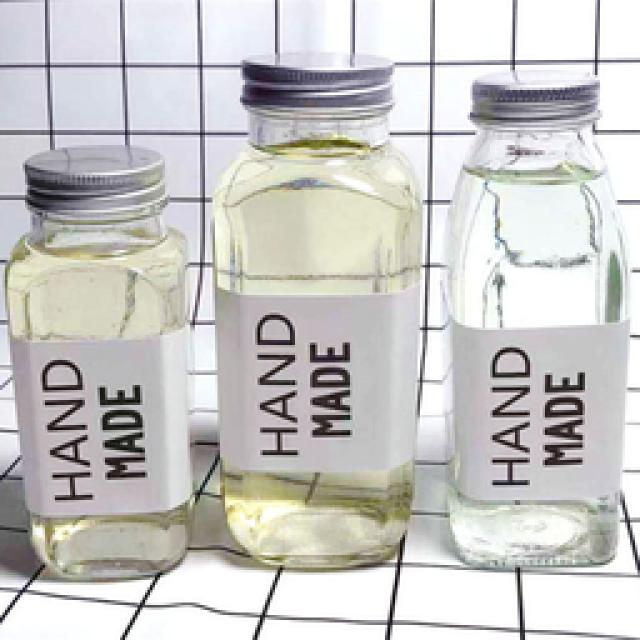glass_beverage_bottles: (218, 55, 418, 563), (453, 75, 620, 572), (12, 140, 188, 582)
